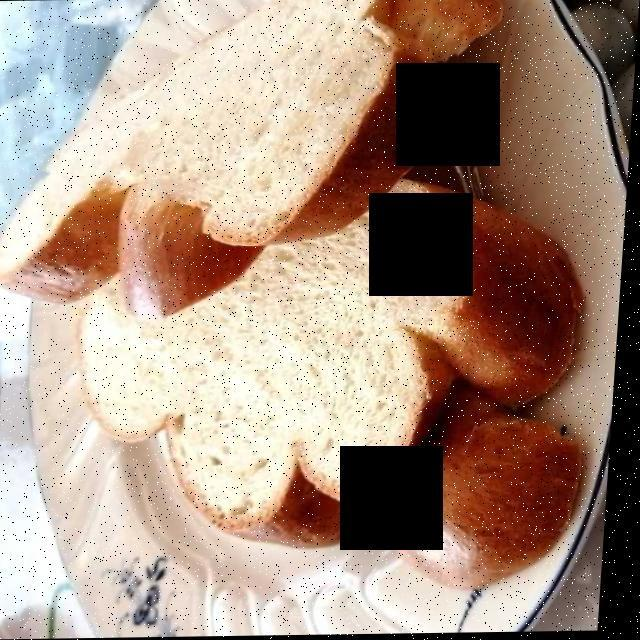bread: (0, 10, 595, 609)
